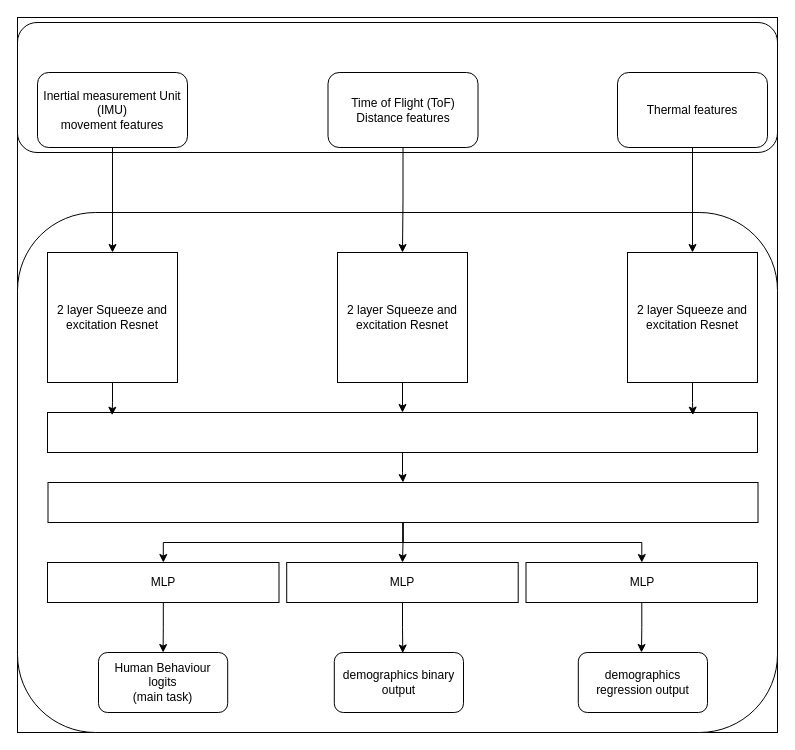
Some shapes in this 795 by 750 pixel diagram are drawn without their labels. Each missing label, with the centre of its shape:
"concat" goes at point (402, 432).
"LSTM" goes at point (402, 502).
